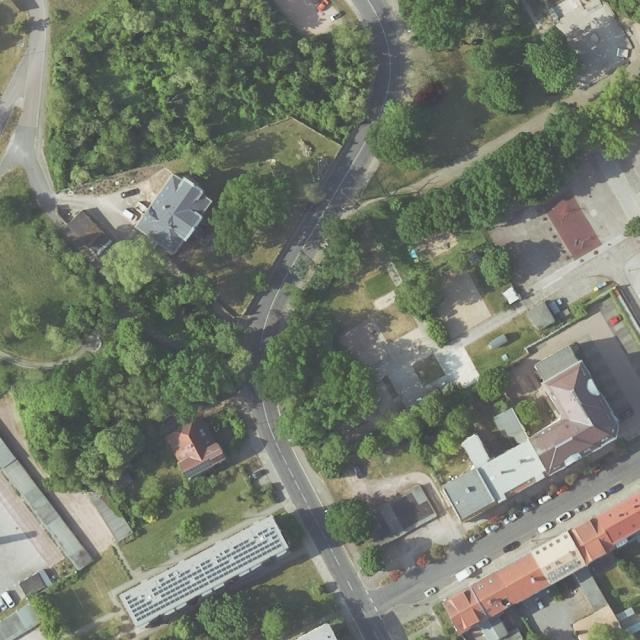PV: (125, 526, 283, 623), (183, 458, 214, 480)
